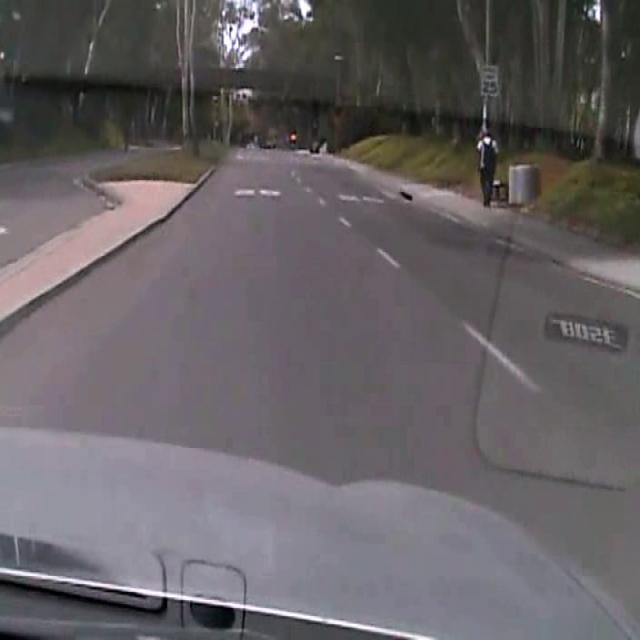speedLimit25: (479, 61, 499, 99)
